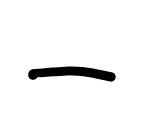minus: (29, 66, 116, 82)
